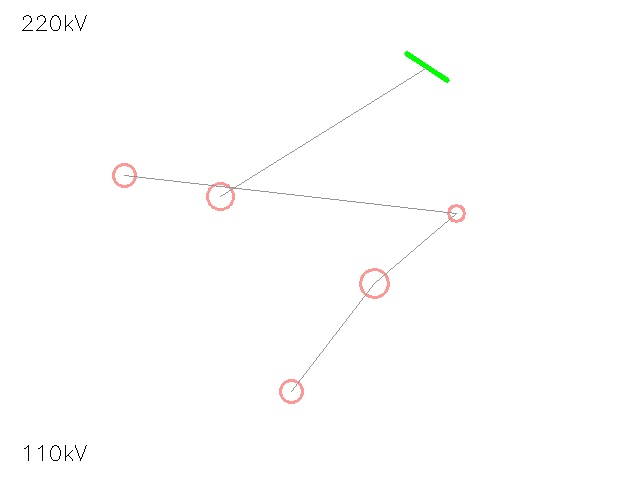busbar: (396, 36, 458, 98)
disconnect_switch: (346, 255, 402, 311)
fuse: (102, 153, 146, 197), (269, 369, 313, 413)
load_break_switch: (194, 170, 246, 222)
voltage_transformer: (440, 197, 472, 229)
